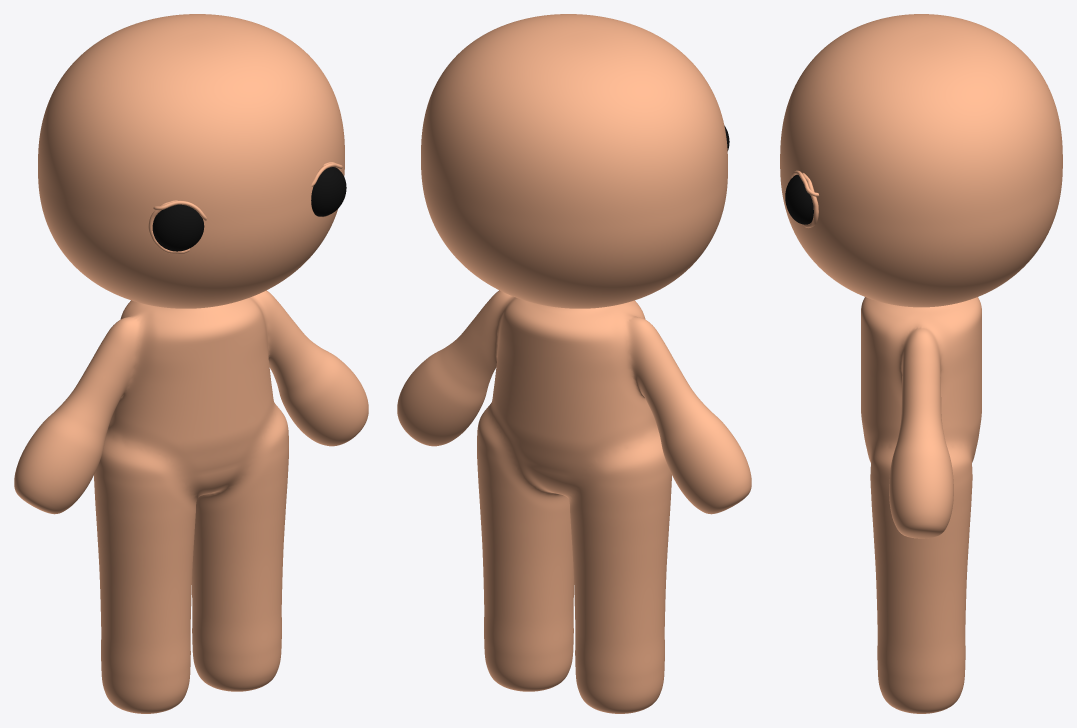
File: modelo-srmcZaPp.glb
3 views of the same model, side by side, from view 1: azimuth 30°, elevation 25°; view 2: azimuth 150°, elevation 25°; view 3: azimuth 270°, elevation 25° (orthographic).
Visible parts, largest first — view 1: PKG_0, PKG_1, PKG_c0, PKG_c1; view 2: PKG_0, PKG_1; view 3: PKG_1, PKG_0, PKG_c1.
Part boxes in pixels (x1=…): PKG_0: x1=14, y1=290, x2=368, y2=713; PKG_1: x1=38, y1=14, x2=344, y2=308; PKG_c0: x1=152, y1=204, x2=204, y2=251; PKG_c1: x1=311, y1=167, x2=346, y2=216; PKG_0: x1=397, y1=290, x2=751, y2=713; PKG_1: x1=421, y1=14, x2=727, y2=308; PKG_1: x1=780, y1=14, x2=1062, y2=307; PKG_0: x1=861, y1=297, x2=981, y2=713; PKG_c1: x1=785, y1=174, x2=813, y2=224.
Bounding box in the file's own units: 0.0833 × 0.1508 × 0.0598.
